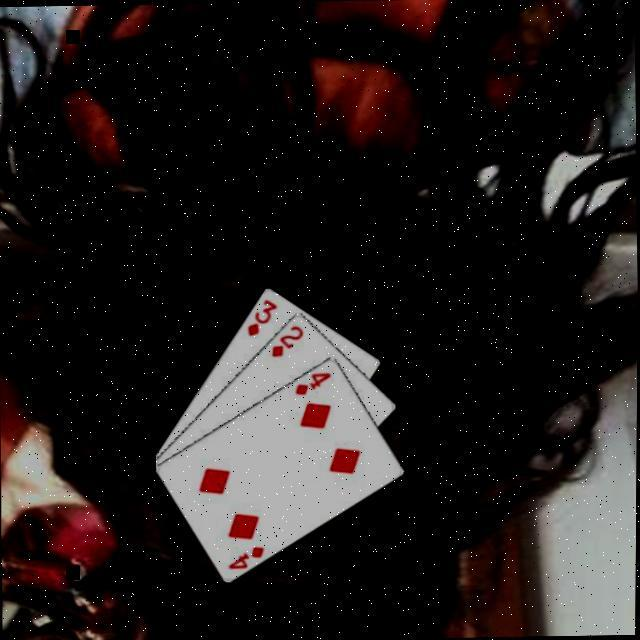2D: (268, 323, 308, 360)
3D: (244, 296, 282, 339)
4D: (227, 542, 269, 572), (293, 369, 335, 398)
